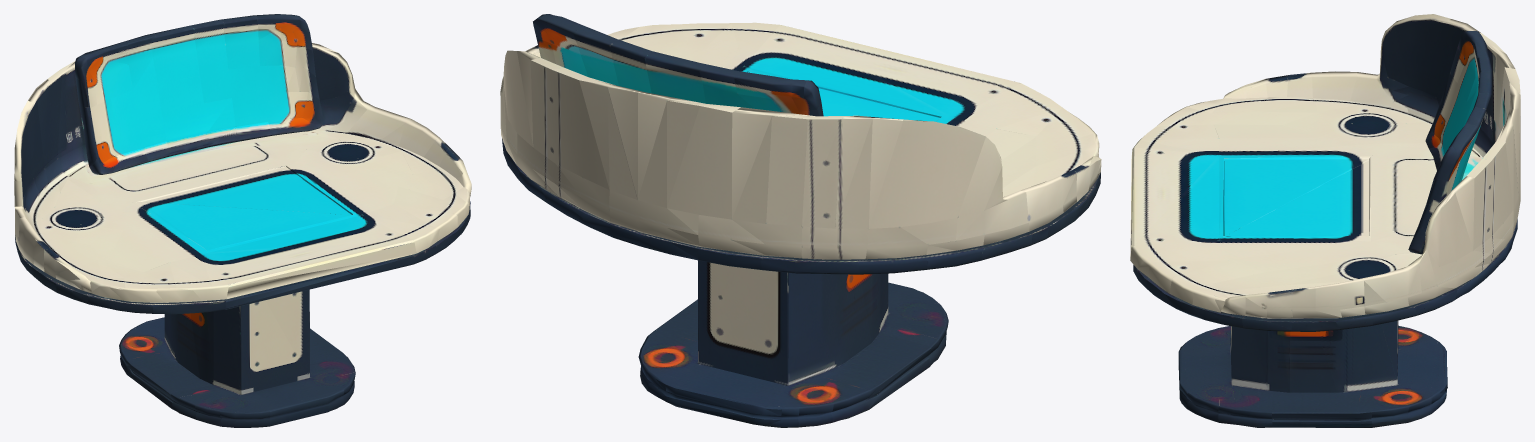
File: station.glb
The picture shows the model from 3 angles, left to right: view 1: azimuth 30°, elevation 25°; view 2: azimuth 150°, elevation 25°; view 3: azimuth 270°, elevation 25°; orthographic projection. The views are drawn at different scales.
Bounding box in the file's own units: 1 × 0.666 × 0.7598.
1 material, 1 textured.
